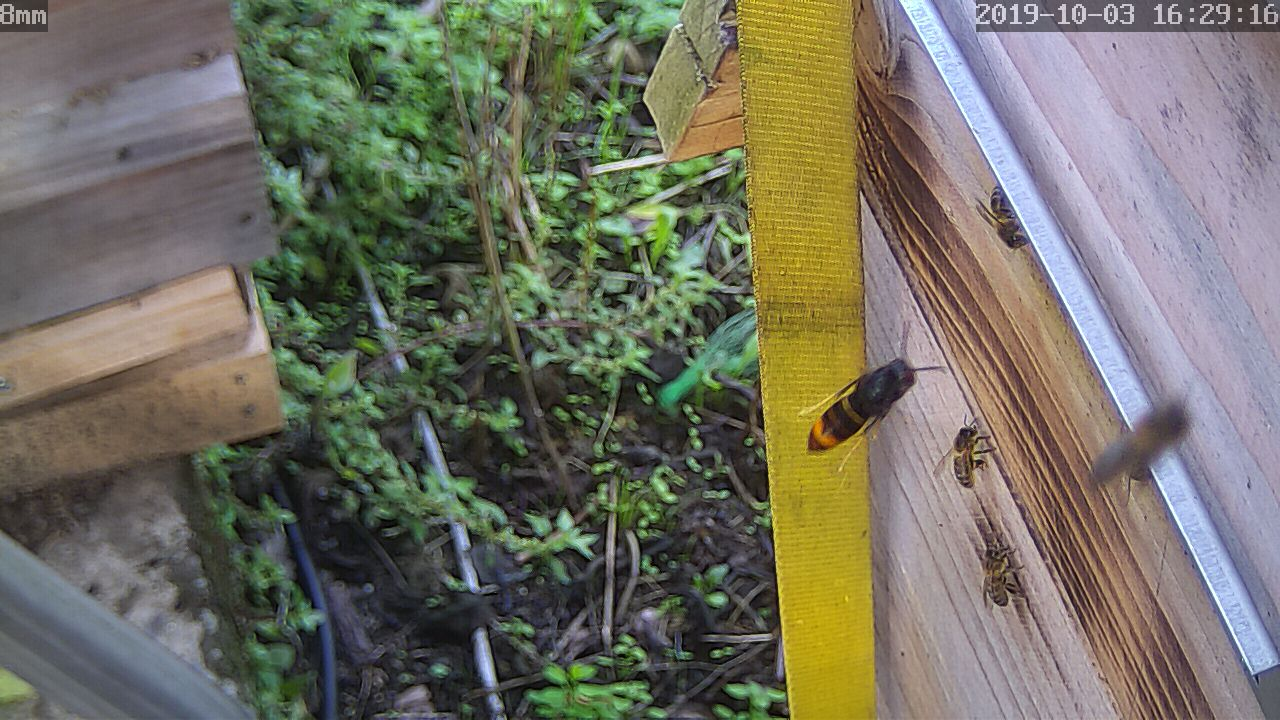bee: (978, 188, 1024, 251), (973, 547, 1022, 605), (942, 416, 985, 478)
hornet: (804, 345, 922, 464)
